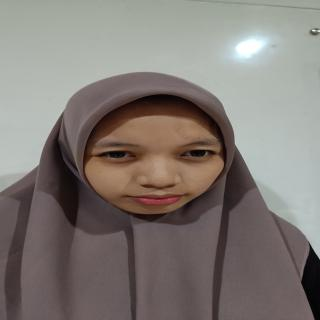Marah: (74, 93, 234, 228)
